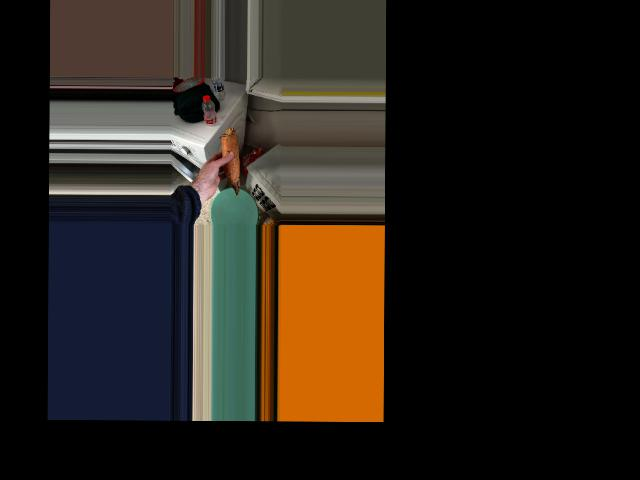sweet_potato: (220, 130, 245, 195)
